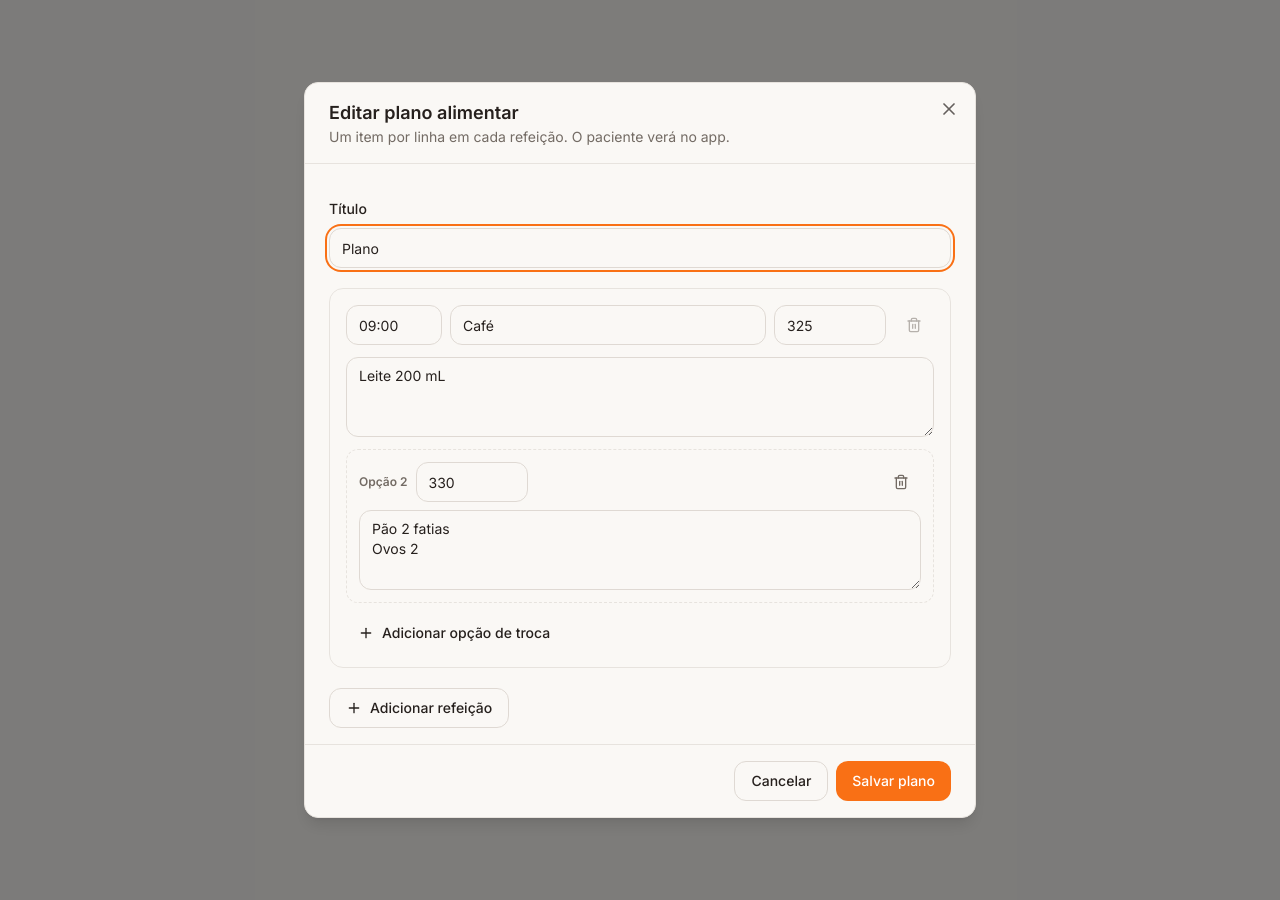
Test case: editor do plano alimentar — opções de troca (PDF do Ernâni, tela 19) › avisa quando a kcal da opção foge mais de 15% da refeição
Replace the text in the number field named "Calorias da opção 2" with "500": (472,482) [416,462,528,502]
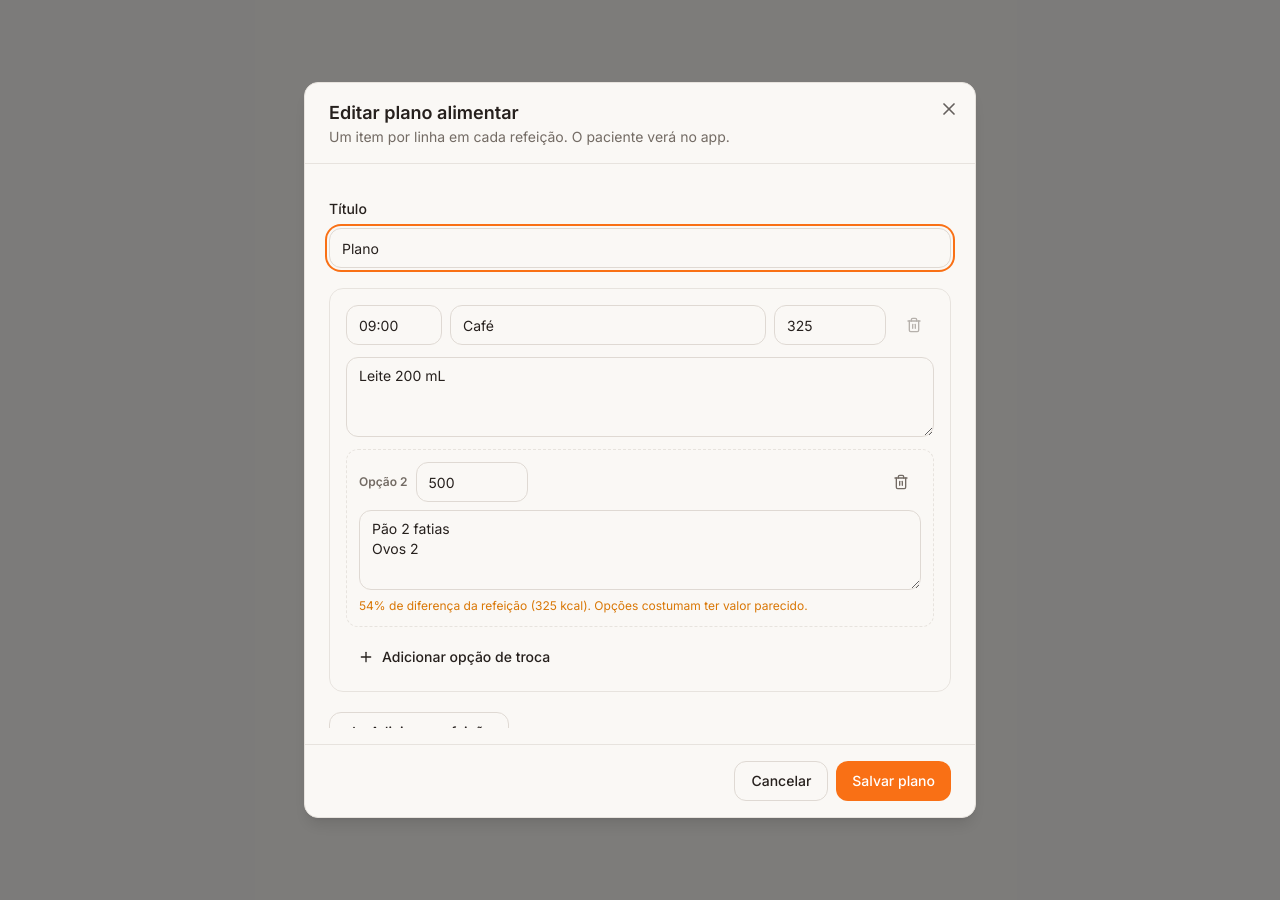
Now the text "54% de diferença" is shown, box [359,598,808,613]
